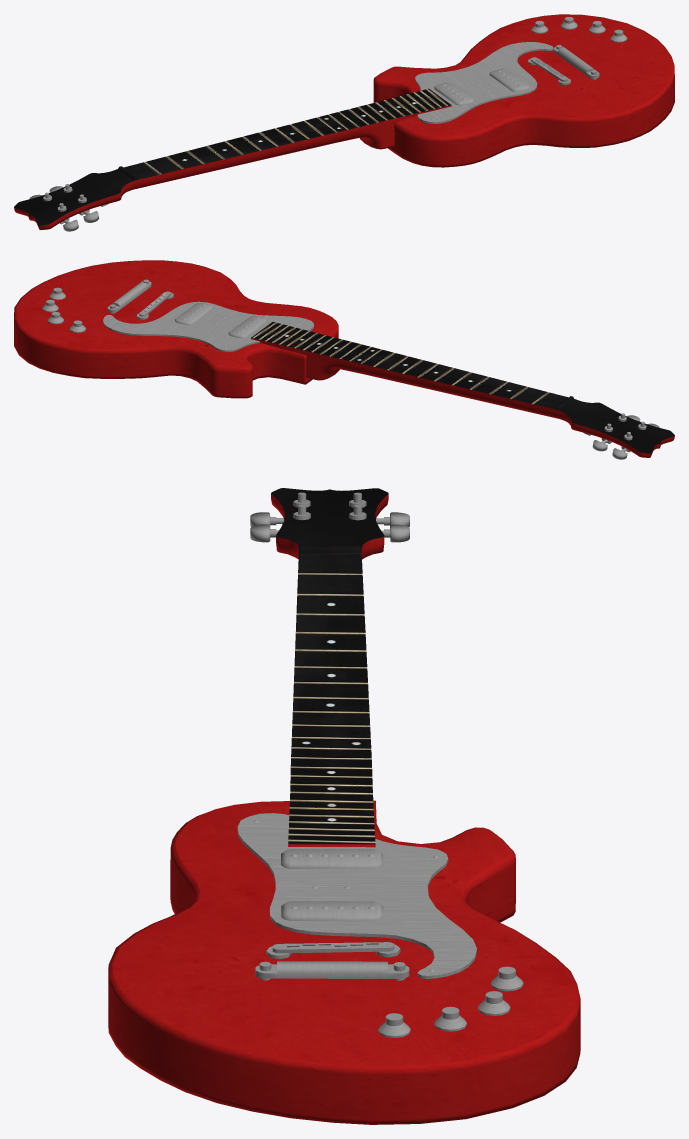
Rendered from Electric_Guitar.fbx.
The picture shows the model from 3 angles, top to bottom: view 1: azimuth 30°, elevation 25°; view 2: azimuth 150°, elevation 25°; view 3: azimuth 270°, elevation 25°; orthographic projection. The views are drawn at different scales.
Visible parts, largest first — view 1: Front, Sides, Fret_Board, Centre, FretBoard_Back, Head, Pickups, Pegs, Nobs; view 2: Front, Sides, Fret_Board, Centre, FretBoard_Back, Head, Pickups, Pegs, Nobs; view 3: Front, Sides, Fret_Board, Centre, Pickups, Head, Nobs, Pegs, FretBoard_Back.
Part boxes in pixels (x1,y1,x2,y2): Front: (376,14,672,136); Sides: (373,14,674,167); Fret_Board: (118,88,450,180); Centre: (415,42,553,124); FretBoard_Back: (14,105,451,230); Head: (14,169,133,225); Pickups: (422,45,599,119); Pegs: (29,184,108,231); Nobs: (531,17,627,42); Front: (16,260,336,367); Sides: (14,260,338,398); Fret_Board: (251,322,573,410); Centre: (103,301,313,352); FretBoard_Back: (251,338,674,457); Head: (559,399,674,453); Pickups: (107,279,307,348); Pegs: (583,413,659,459); Nobs: (42,287,85,332); Front: (113,801,575,1066); Sides: (108,800,580,1124); Fret_Board: (288,545,375,844); Centre: (237,813,476,978); Pickups: (253,820,438,980); Head: (271,488,388,548); Nobs: (378,966,523,1037); Pegs: (250,492,409,542); FretBoard_Back: (271,493,388,846).
Bounding box in the file's own units: 1.66 × 0.1007 × 0.5468.
